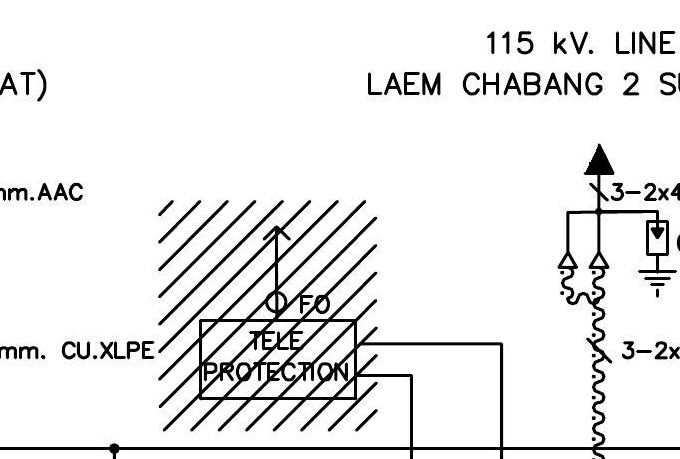115_la: (637, 219, 678, 299)
tele_protection: (196, 316, 360, 403)
terminator_double: (557, 210, 611, 271)
